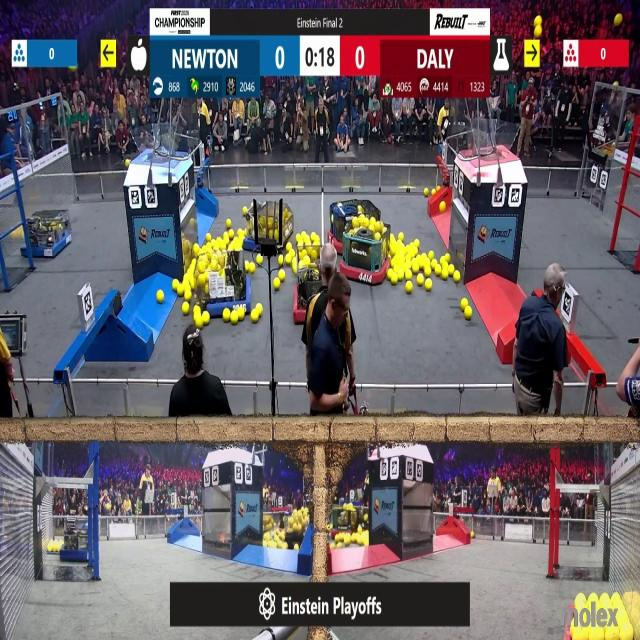ball_airborne: (533, 27, 541, 39), (534, 15, 541, 25)
ball_ground: (251, 311, 259, 324), (406, 282, 414, 294), (194, 316, 202, 328), (203, 313, 210, 326), (182, 304, 189, 316), (425, 279, 432, 291), (222, 310, 229, 322), (464, 308, 471, 319), (424, 267, 431, 278), (232, 313, 239, 324), (454, 272, 460, 284), (159, 290, 165, 302), (413, 262, 419, 274), (284, 256, 292, 265), (192, 244, 198, 256), (274, 280, 281, 290), (434, 267, 441, 277), (238, 311, 245, 321), (193, 305, 200, 315), (183, 290, 190, 300), (396, 272, 403, 282), (280, 271, 286, 282), (418, 275, 424, 286), (242, 263, 248, 274), (311, 249, 318, 258), (441, 203, 447, 213), (173, 280, 179, 290), (391, 276, 397, 286), (406, 272, 413, 280), (461, 298, 468, 306), (443, 271, 449, 280), (256, 305, 262, 314), (256, 254, 261, 264), (225, 218, 230, 228), (279, 255, 284, 265), (250, 264, 255, 274), (449, 266, 455, 274), (177, 286, 183, 294), (206, 234, 212, 242), (296, 250, 302, 258), (312, 234, 318, 242), (289, 248, 295, 256), (398, 234, 403, 243), (292, 264, 297, 273), (228, 229, 233, 238), (295, 234, 300, 243), (286, 243, 291, 251), (447, 254, 452, 262), (415, 240, 420, 248), (306, 256, 311, 264), (183, 275, 188, 283), (428, 251, 433, 258), (430, 188, 435, 195), (243, 207, 247, 215), (424, 188, 428, 195), (473, 534, 477, 541)
goal: (466, 124, 522, 160), (130, 129, 188, 160)
robot_blue: (194, 252, 250, 316), (244, 201, 297, 256), (27, 208, 72, 258), (59, 518, 89, 560), (279, 510, 309, 547)
robot_red: (342, 215, 390, 285), (293, 264, 325, 324), (334, 506, 359, 536)
